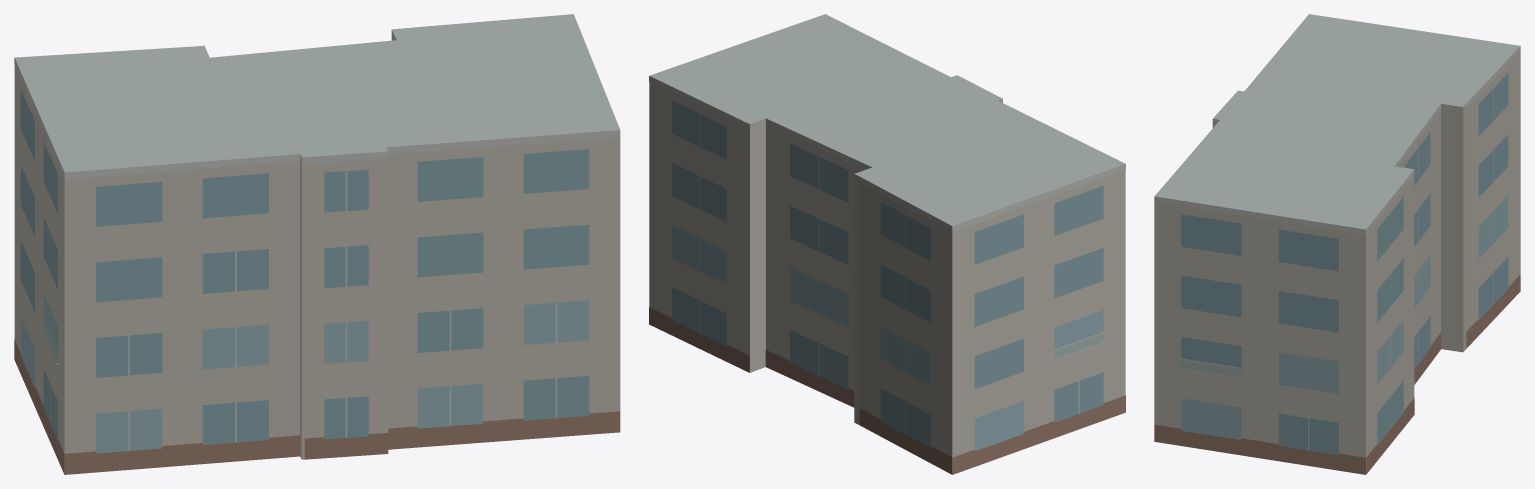
File: survey-upis-32888509.glb
The picture shows the model from 3 angles, left to right: view 1: azimuth 30°, elevation 25°; view 2: azimuth 150°, elevation 25°; view 3: azimuth 270°, elevation 25°; orthographic projection. The views are drawn at different scales.
Visible parts, largest first — view 1: survey-upis-32888509.tmp; view 2: survey-upis-32888509.tmp; view 3: survey-upis-32888509.tmp.
Boxes of the visible parts, bbox=[...] form: survey-upis-32888509.tmp: bbox=[14, 14, 620, 474]; survey-upis-32888509.tmp: bbox=[649, 14, 1125, 474]; survey-upis-32888509.tmp: bbox=[1154, 14, 1520, 474].
Bounding box in the file's own units: 19.6 × 10.4 × 14.08.
